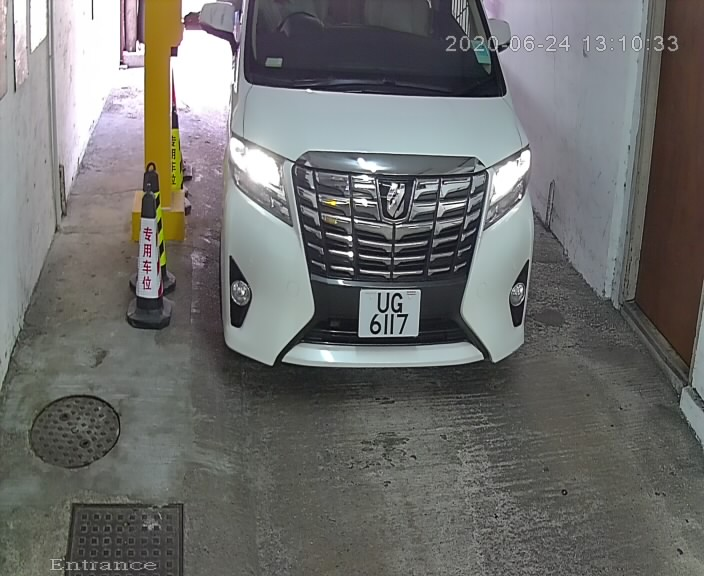Car: (167, 1, 550, 405)
License Plate: (349, 277, 433, 350)
